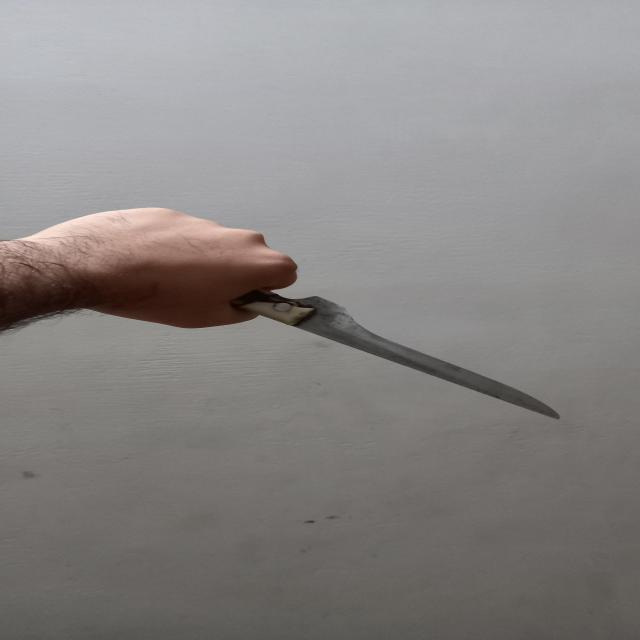faca: (235, 291, 560, 418)
